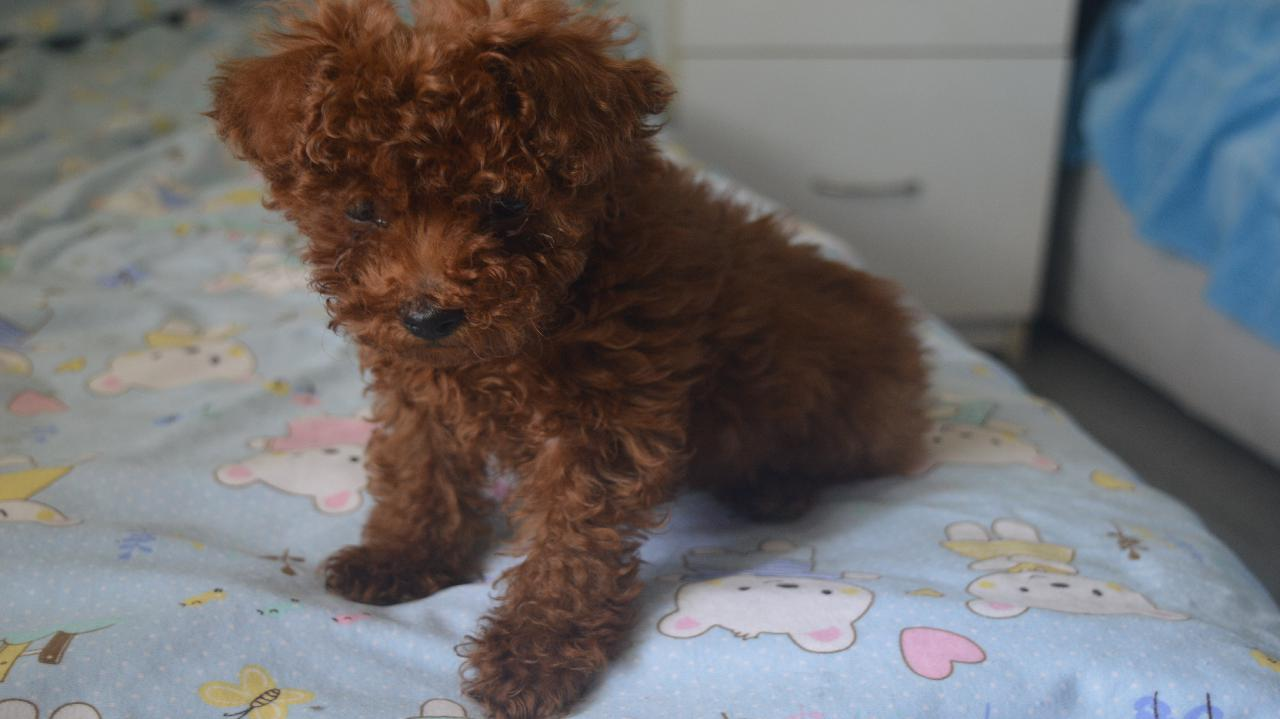coin: (216, 11, 948, 695)
